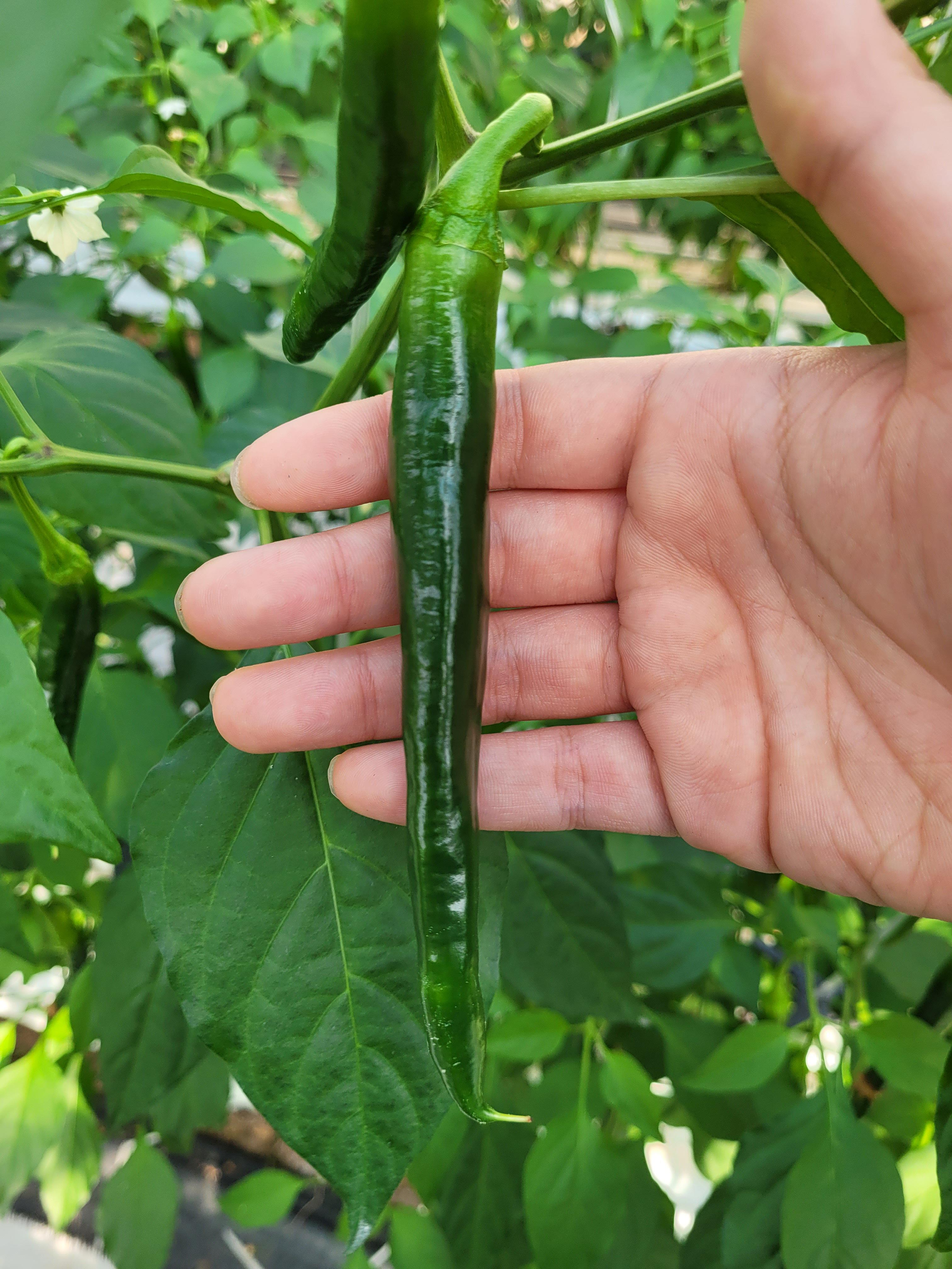Buah Cabai Sehat: (386, 156, 556, 1129)
Daun Cabai Sehat: (130, 614, 509, 1235)
